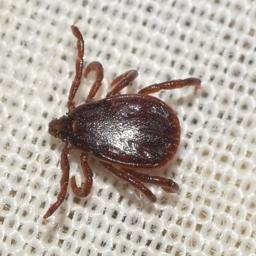Rhipicephalus sanguineus: (43, 25, 201, 220)
